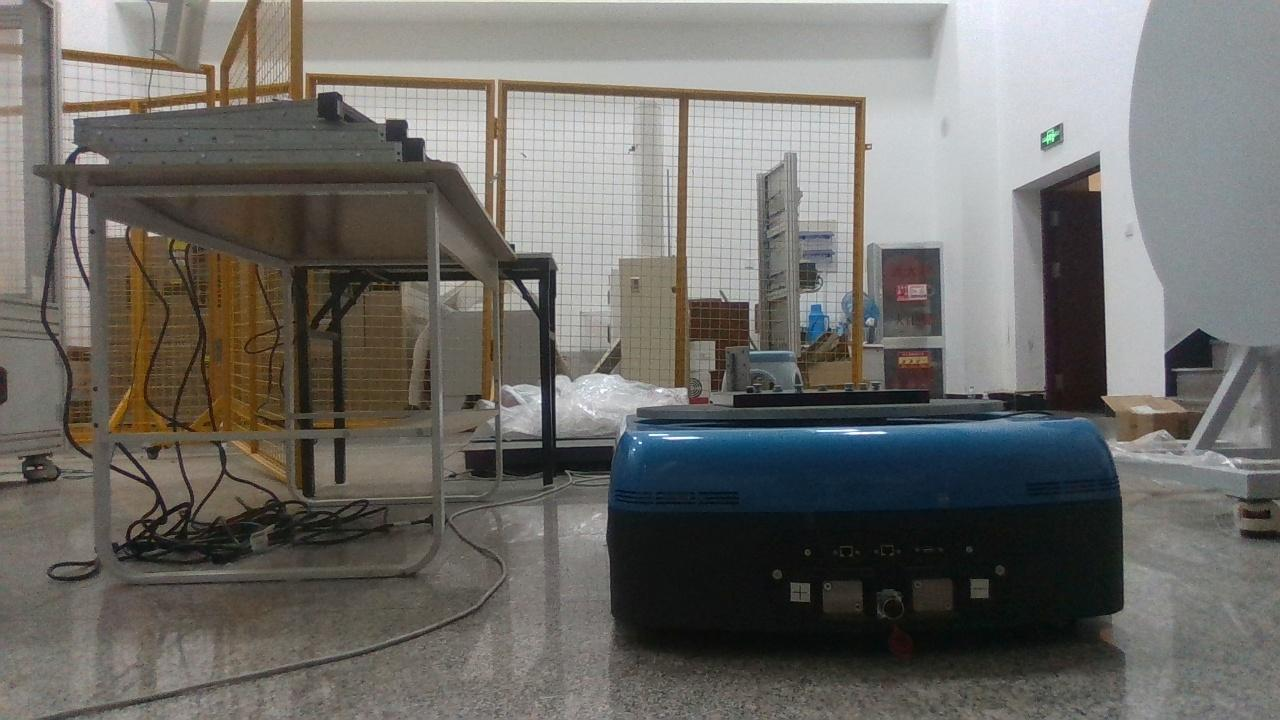AGV: (607, 389, 1125, 654)
